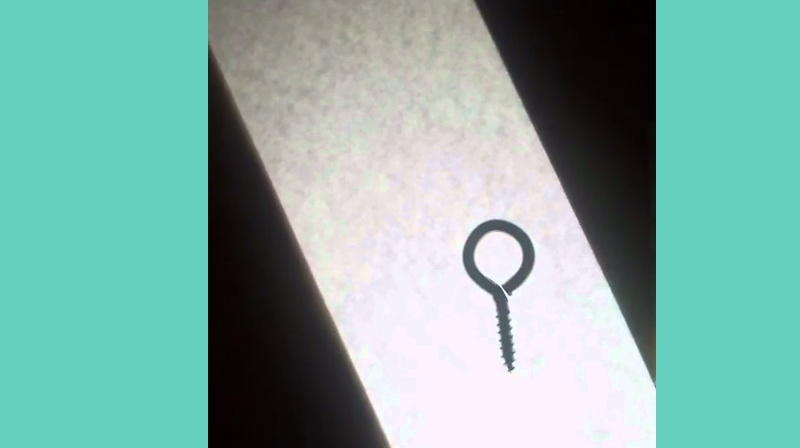O001: (459, 211, 537, 377)
